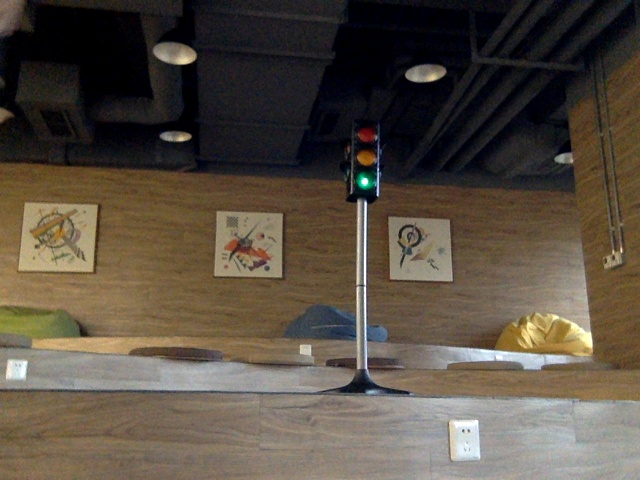green: (349, 130, 380, 194)
